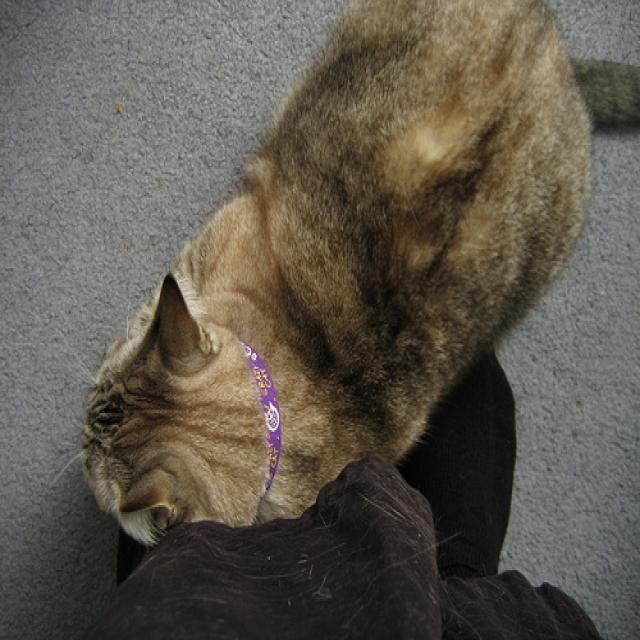cat: (77, 1, 640, 549)
